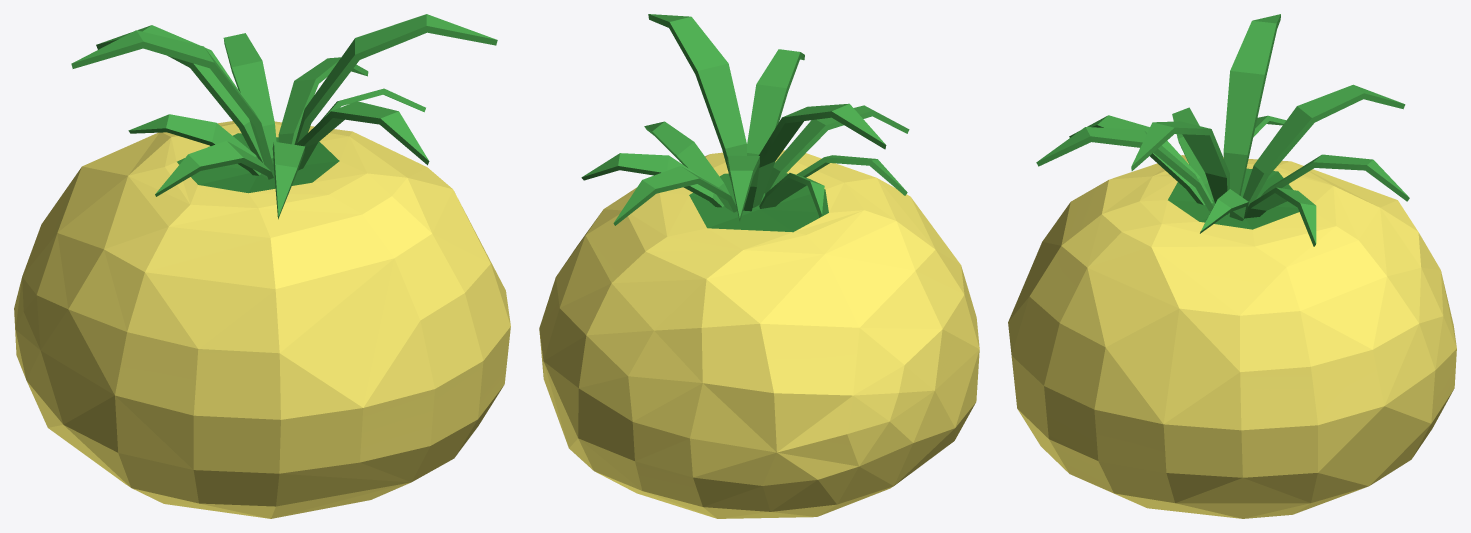
Rendered from fantasy_plant_061.fbx.
3 views of the same model, side by side, from view 1: azimuth 30°, elevation 25°; view 2: azimuth 150°, elevation 25°; view 3: azimuth 270°, elevation 25° (orthographic). The views are drawn at different scales.
Parts seen in each view (by area): view 1: fantasy_plant.061; view 2: fantasy_plant.061; view 3: fantasy_plant.061.
Part boxes in pixels (x1,y1,x2,y2): fantasy_plant.061: (14,14,510,518); fantasy_plant.061: (539,14,979,518); fantasy_plant.061: (1008,14,1456,518).
Bounding box in the file's own units: 139 × 139 × 141.
Materials: 1 (1 with a texture image).
